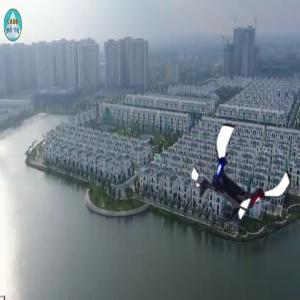drone: (192, 128, 293, 229)
